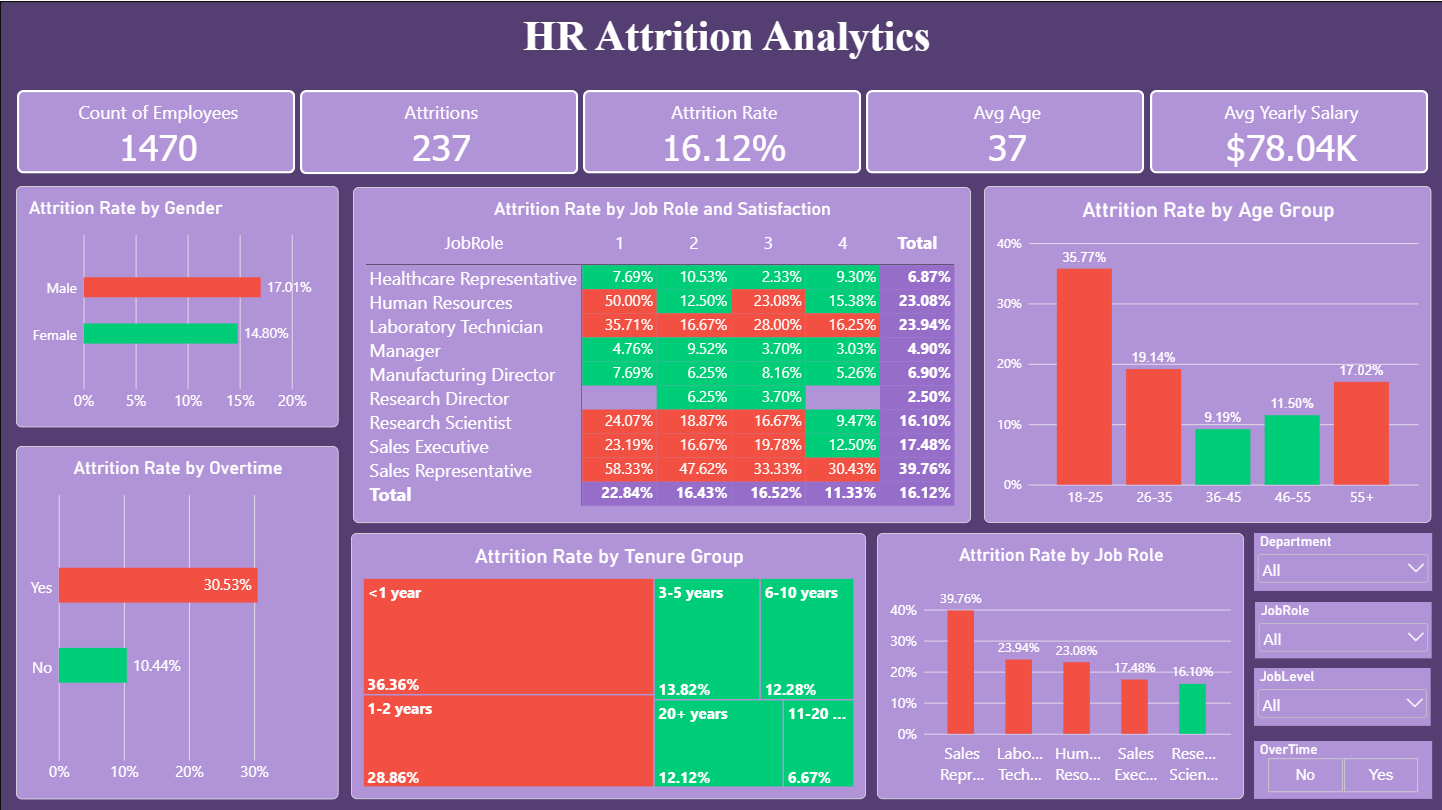

What the dashboard file says about the page in this screenshot:
{"tool":"powerbi","page":{"name":"Overview","canvas":[1920,1080],"ordinal":0},"visuals":[{"type":"cardVisual","fields":{"Data":["_Measure.Count of Employees"]},"box":[19,135.7,304.9,112.3],"z":0},{"type":"cardVisual","fields":{"Data":["_Measure.Attritions"]},"box":[341.4,135.7,304.9,112.3],"z":1000},{"type":"cardVisual","fields":{"Data":["_Measure.Attrition Rate"]},"box":[666.7,135.7,304.9,112.3],"z":2000},{"type":"cardVisual","fields":{"Data":["_Measure.Avg Age"]},"box":[983.3,135.7,304.9,112.3],"z":3000},{"type":"cardVisual","fields":{"Data":["_Measure.Avg Salary"]},"box":[1304.3,135.7,304.9,112.3],"z":4000},{"type":"barChart","title":"Attrition Rate by Gender","fields":{"Category":["HR-Employee-Attrition.Gender"],"Y":["_Measure.Attrition Rate"]},"box":[19,264.1,428.9,321],"z":5000},{"type":"pivotTable","title":"Attrition Rate by Job Role and Level","fields":{"Rows":["HR-Employee-Attrition.JobRole"],"Columns":["HR-Employee-Attrition.JobSatisfaction"],"Values":["_Measure.Attrition Rate"]},"box":[465.4,264.1,812.6,433.3],"z":6000},{"type":"clusteredColumnChart","title":"Attrition Rate by Age Group","fields":{"Category":["HR-Employee-Attrition.Age Group"],"Y":["_Measure.Attrition Rate"]},"box":[1288.3,264.1,364.7,433.3],"z":7000},{"type":"clusteredColumnChart","title":"Attrition Rate by Job Role","fields":{"Category":["HR-Employee-Attrition.JobRole"],"Y":["_Measure.Attrition Rate"]},"box":[1164.3,704.7,488.8,375],"z":8000},{"type":"treemap","title":"Attrition Rate by Tenure Group","fields":{"Group":["HR-Employee-Attrition.Tenure Group"],"Values":["_Measure.Attrition Rate"]},"box":[465.4,704.7,684.3,375],"z":9000},{"type":"clusteredBarChart","title":"Attrition Rate by Overtime","fields":{"Category":["HR-Employee-Attrition.OverTime"],"Y":["_Measure.Attrition Rate"]},"box":[19,609.8,428.9,469.8],"z":10000},{"type":"slicer","fields":{"Values":["HR-Employee-Attrition.Department"]},"box":[1663.2,570.5,256.8,77.3],"z":11000},{"type":"slicer","fields":{"Values":["HR-Employee-Attrition.JobRole"]},"box":[1663.2,659.5,256.8,74.4],"z":12000},{"type":"slicer","fields":{"Values":["HR-Employee-Attrition.JobLevel"]},"box":[1663.2,751.4,256.8,77.3],"z":13000},{"type":"slicer","fields":{"Values":["HR-Employee-Attrition.OverTime"]},"box":[1663.1,843.9,256.8,77.3],"z":14000},{"type":"textbox","box":[646.9,14,640.7,104.4],"z":14002}]}

Visuals, with their boxes in screenshot pixels (x1, y1, x2, y2), scaled from the page's 1920x1080 canvas onto the 1442x810 screenshot:
cardVisual - _Measure.Count of Employees: locate(14, 102, 243, 186)
cardVisual - _Measure.Attritions: locate(256, 102, 485, 186)
cardVisual - _Measure.Attrition Rate: locate(501, 102, 730, 186)
cardVisual - _Measure.Avg Age: locate(738, 102, 967, 186)
cardVisual - _Measure.Avg Salary: locate(980, 102, 1209, 186)
"Attrition Rate by Gender" barChart: locate(14, 198, 336, 439)
"Attrition Rate by Job Role and Level" pivotTable: locate(350, 198, 960, 523)
"Attrition Rate by Age Group" clusteredColumnChart: locate(968, 198, 1241, 523)
"Attrition Rate by Job Role" clusteredColumnChart: locate(874, 529, 1242, 809)
"Attrition Rate by Tenure Group" treemap: locate(350, 529, 863, 809)
"Attrition Rate by Overtime" clusteredBarChart: locate(14, 457, 336, 809)
slicer - HR-Employee-Attrition.Department: locate(1249, 428, 1441, 486)
slicer - HR-Employee-Attrition.JobRole: locate(1249, 495, 1441, 550)
slicer - HR-Employee-Attrition.JobLevel: locate(1249, 564, 1441, 622)
slicer - HR-Employee-Attrition.OverTime: locate(1249, 633, 1441, 691)
textbox: locate(486, 10, 967, 89)
